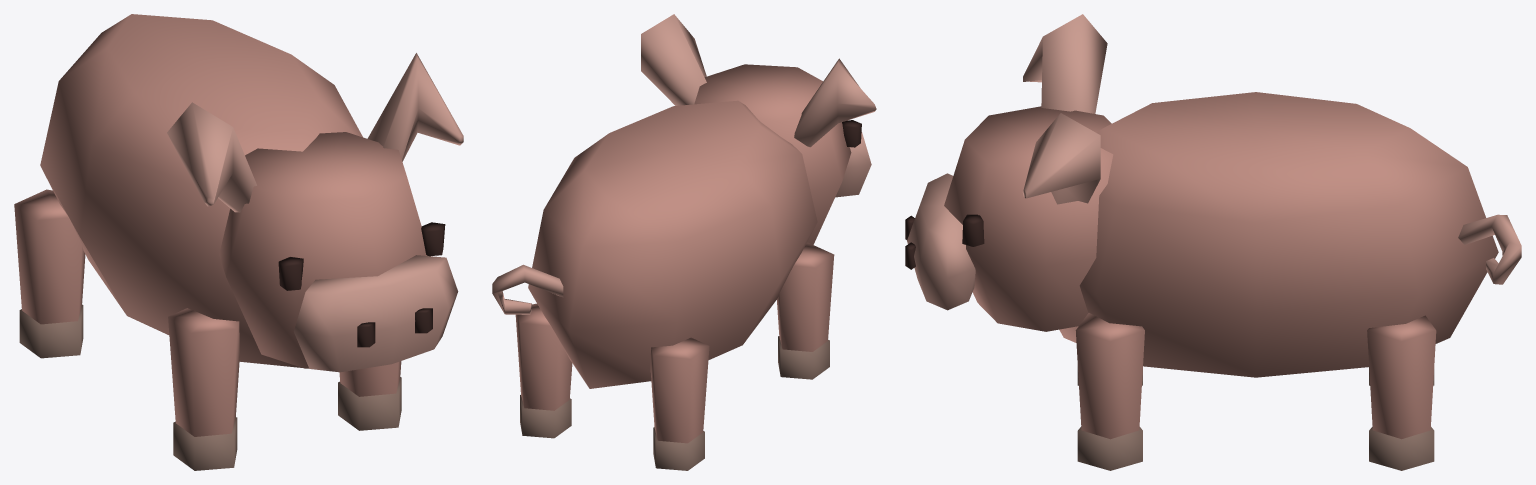
File: maiale.glb
3 views of the same model, side by side, from view 1: azimuth 30°, elevation 25°; view 2: azimuth 150°, elevation 25°; view 3: azimuth 270°, elevation 25° (orthographic). The views are drawn at different scales.
Bounding box in the file's own units: 0.68 × 0.9104 × 1.44.
